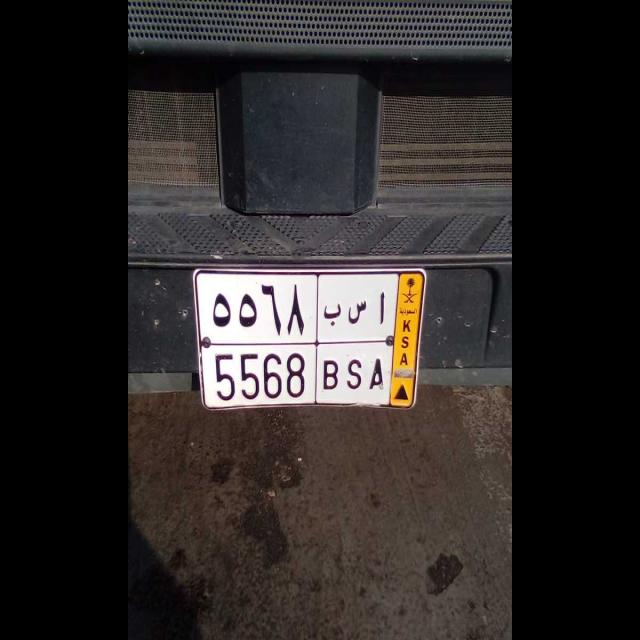license_plate: (205, 344, 389, 403)
